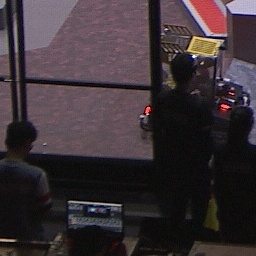Red: (219, 90, 234, 110)
Robot: (143, 23, 254, 141)
